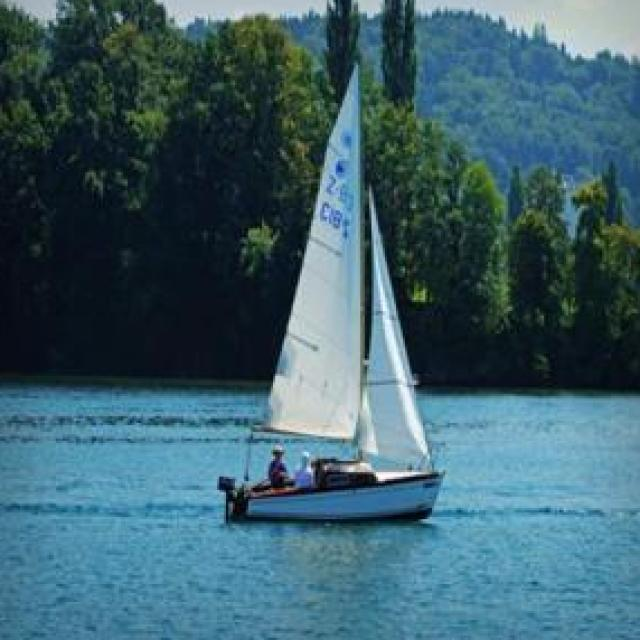sailboat: (234, 57, 452, 517)
